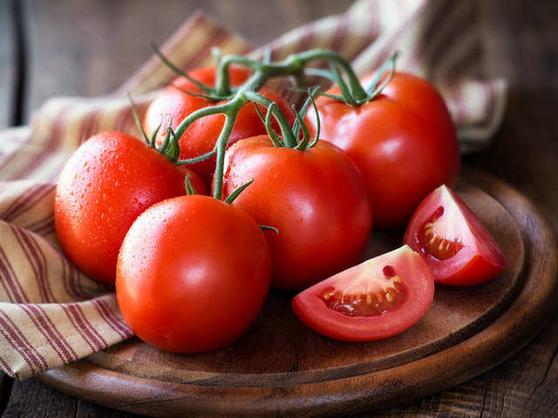tomato: (114, 193, 272, 354), (309, 69, 460, 216), (220, 136, 374, 277)
